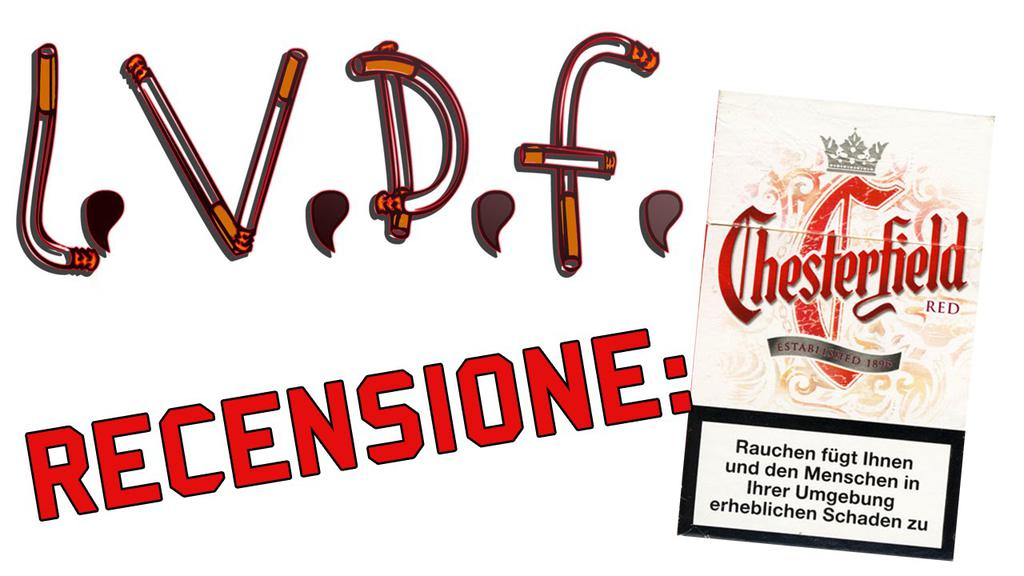chesterfield_red: (717, 115, 974, 539)
